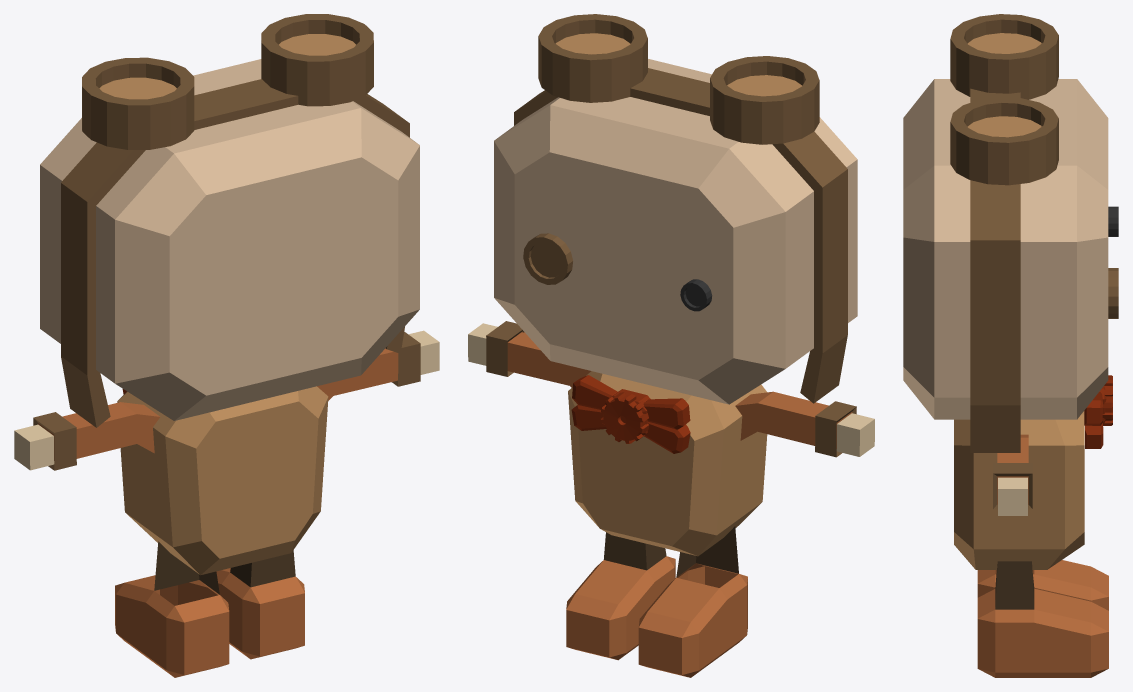
Rendered from lilCharlieForMixamo.fbx.
The picture shows the model from 3 angles, left to right: view 1: azimuth 30°, elevation 25°; view 2: azimuth 150°, elevation 25°; view 3: azimuth 270°, elevation 25°; orthographic projection. The views are drawn at different scales.
Visible parts, largest first — view 1: Cube.081; view 2: Cube.081; view 3: Cube.081.
Boxes of the visible parts, x1=… form: Cube.081: x1=14, y1=14, x2=439, y2=677; Cube.081: x1=468, y1=14, x2=874, y2=677; Cube.081: x1=903, y1=14, x2=1118, y2=677.
Bounding box in the file's own units: 7.11 × 9.96 × 3.41.
